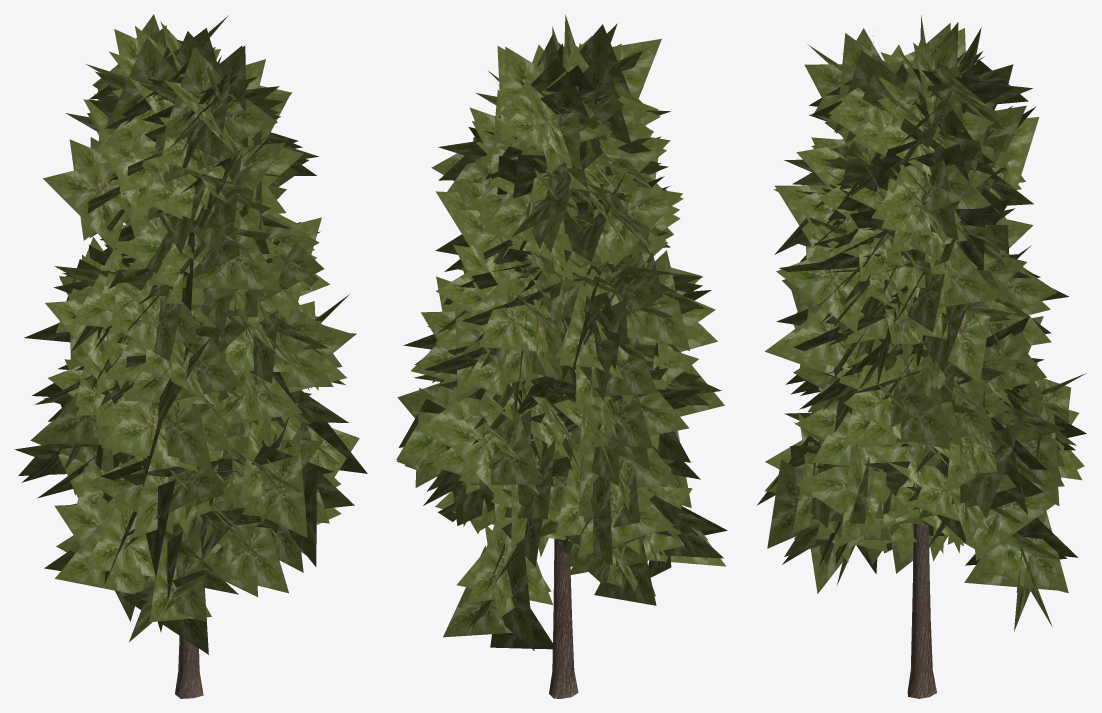
The model's file is Casuarina_Equisetifolia_Spring_Adult.glb.
3 views of the same model, side by side, from view 1: azimuth 30°, elevation 25°; view 2: azimuth 150°, elevation 25°; view 3: azimuth 270°, elevation 25° (orthographic).
Parts seen in each view (by area): view 1: Casuarina_Equisetifolia_Spring_Adult__LOD3; view 2: Casuarina_Equisetifolia_Spring_Adult__LOD3; view 3: Casuarina_Equisetifolia_Spring_Adult__LOD3.
Part boxes in pixels (x1,y1,x2,y2): Casuarina_Equisetifolia_Spring_Adult__LOD3: (14,14,367,698); Casuarina_Equisetifolia_Spring_Adult__LOD3: (396,14,727,698); Casuarina_Equisetifolia_Spring_Adult__LOD3: (757,15,1086,698).
Bounding box in the file's own units: 9.66 × 20.77 × 9.43.
2 materials, 2 textured.
